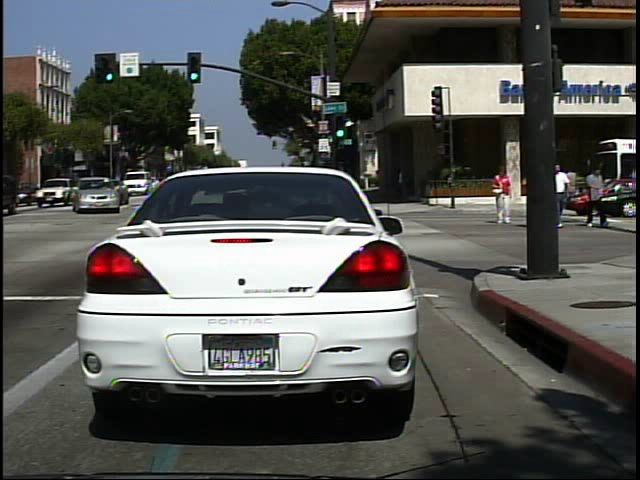person: (584, 162, 613, 231), (488, 165, 515, 227), (551, 159, 572, 230), (522, 162, 544, 228), (559, 162, 584, 215)
